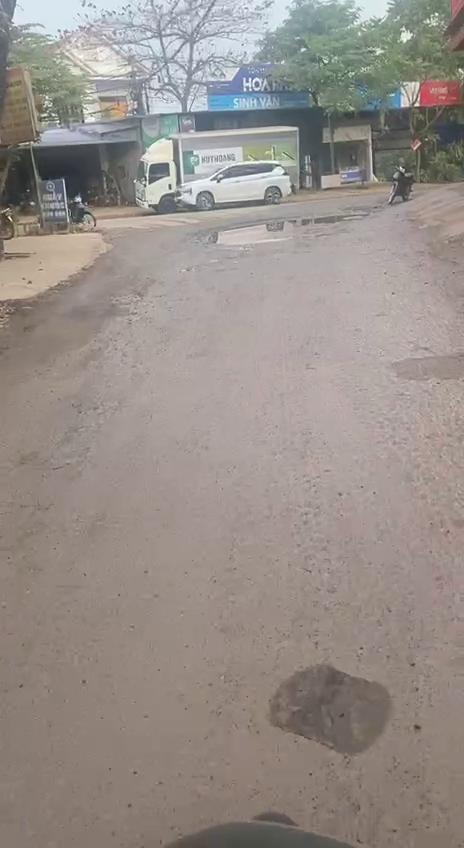pothole: (205, 210, 372, 252)
